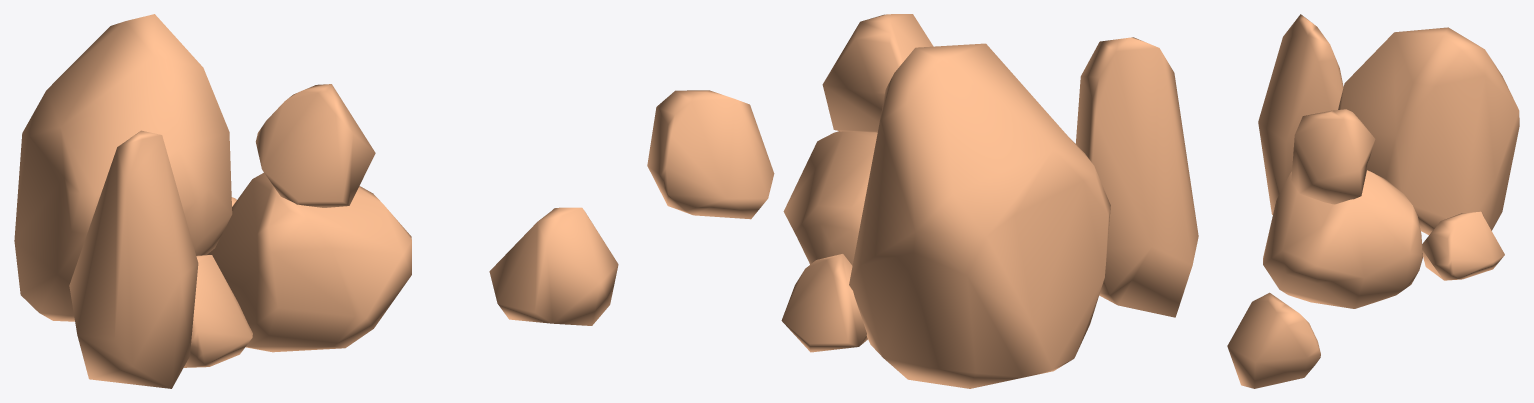
File: rocks.glb
3 views of the same model, side by side, from view 1: azimuth 30°, elevation 25°; view 2: azimuth 150°, elevation 25°; view 3: azimuth 270°, elevation 25° (orthographic). The views are drawn at different scales.
Parts seen in each view (by area): view 1: pasted__pPlatonic2 group2, pPlatonic2, pasted__pPlatonic1 group5, pPlatonic1, pasted__pPlatonic1 group1, pasted__pPlatonic1 group3; view 2: pasted__pPlatonic2 group2, pasted__pPlatonic1 group5, pPlatonic1, pPlatonic2, pasted__pPlatonic1 group1, pasted__pasted__pPlatonic1 pasted__group1 group4; view 3: pasted__pPlatonic2 group2, pPlatonic2, pasted__pPlatonic1 group5, pasted__pPlatonic1 group1, pPlatonic1, pasted__pasted__pPlatonic1 pasted__group1 group4.
Boxes of the visible parts, <box> form: pasted__pPlatonic2 group2: <box>14,14,232,321</box>; pPlatonic2: <box>207,173,411,352</box>; pasted__pPlatonic1 group5: <box>69,130,198,388</box>; pPlatonic1: <box>489,207,618,325</box>; pasted__pPlatonic1 group1: <box>255,84,375,207</box>; pasted__pPlatonic1 group3: <box>184,255,252,367</box>; pasted__pPlatonic2 group2: <box>849,43,1110,388</box>; pasted__pPlatonic1 group5: <box>1075,37,1198,317</box>; pPlatonic1: <box>647,90,774,219</box>; pPlatonic2: <box>783,131,877,265</box>; pasted__pPlatonic1 group1: <box>822,14,933,132</box>; pasted__pasted__pPlatonic1 pasted__group1 group4: <box>781,254,867,352</box>; pasted__pPlatonic2 group2: <box>1338,27,1519,234</box>; pPlatonic2: <box>1263,170,1422,308</box>; pasted__pPlatonic1 group5: <box>1258,14,1343,214</box>; pasted__pPlatonic1 group1: <box>1291,109,1375,204</box>; pPlatonic1: <box>1227,292,1320,388</box>; pasted__pasted__pPlatonic1 pasted__group1 group4: <box>1422,211,1504,280</box>.
Size of the model in its own units: 46.49 by 25.68 by 29.44.
